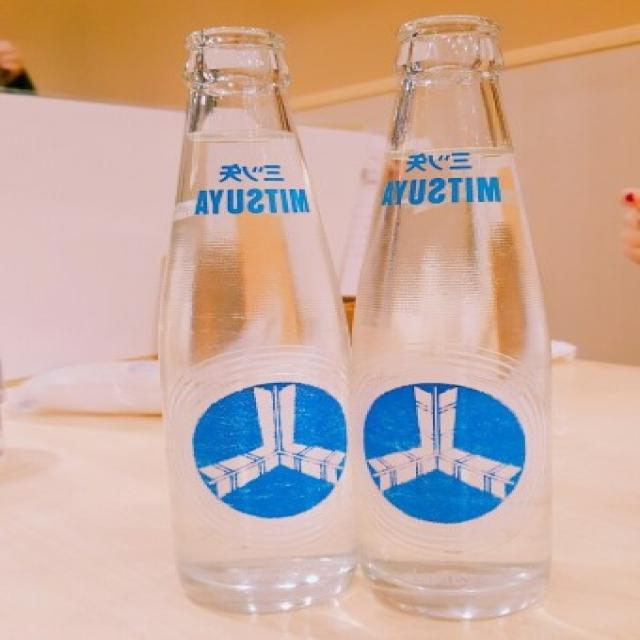glass: (347, 11, 582, 624), (139, 30, 355, 623)
